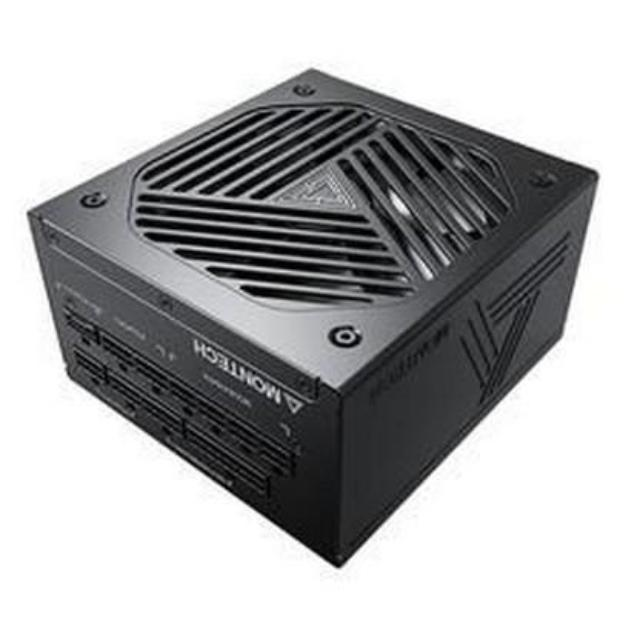PSU: (20, 56, 602, 584)
